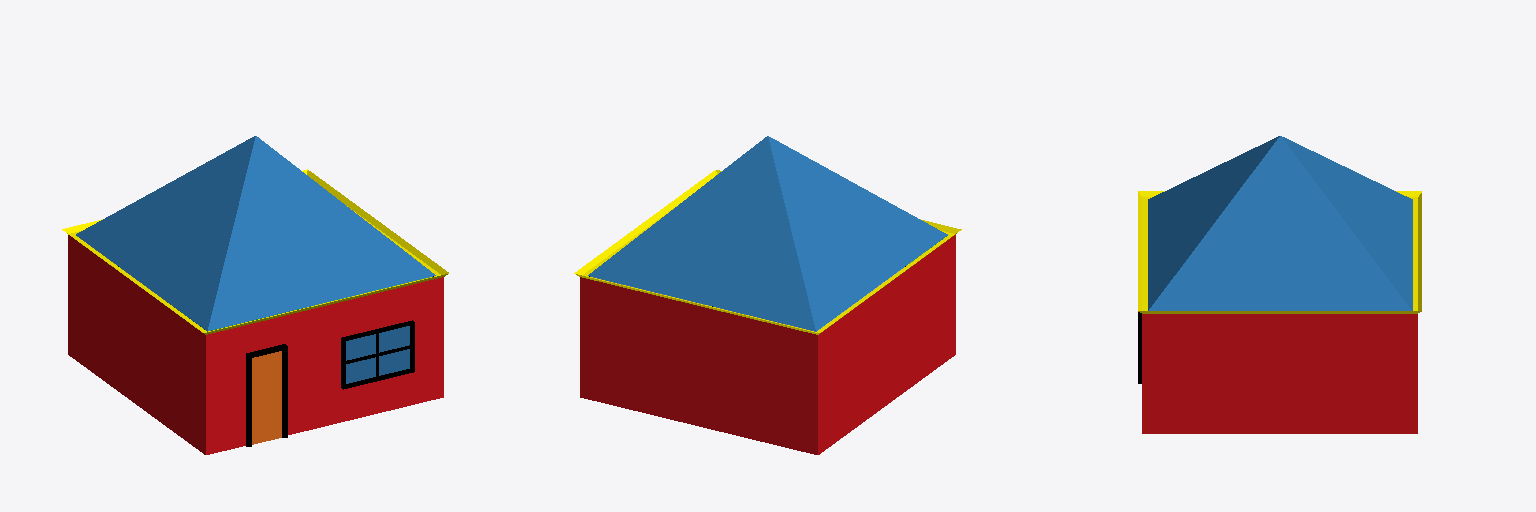
3 views of the same model, side by side, from view 1: azimuth 30°, elevation 25°; view 2: azimuth 150°, elevation 25°; view 3: azimuth 270°, elevation 25° (orthographic).
Parts seen in each view (by area): view 1: Cube; view 2: Cube; view 3: Cube.
Boxes of the visible parts, <box> form: Cube: <box>62,136,448,454</box>; Cube: <box>574,136,961,454</box>; Cube: <box>1138,136,1421,433</box>.
Size of the model in its own units: 10.33 by 9.63 by 10.36.
1 materials, 1 textured.